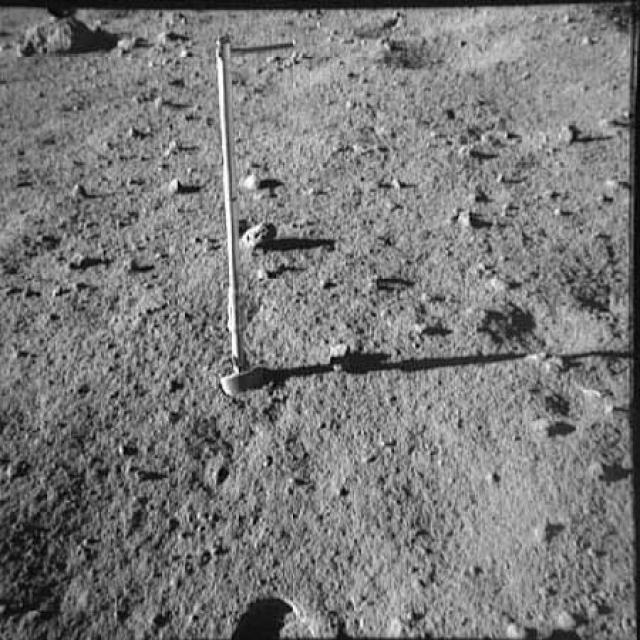crater: (368, 20, 538, 80), (474, 296, 592, 361), (554, 242, 630, 316)
rock: (19, 14, 100, 58), (239, 217, 290, 251), (520, 412, 572, 445), (334, 330, 364, 378), (582, 461, 628, 490), (477, 267, 520, 298), (527, 349, 566, 382), (241, 169, 277, 200), (541, 185, 571, 222), (62, 246, 98, 276), (116, 26, 148, 59), (151, 21, 187, 49), (116, 253, 151, 280), (455, 209, 487, 237), (526, 510, 554, 542), (557, 120, 585, 150), (598, 174, 633, 197), (154, 135, 182, 163), (406, 321, 437, 346), (482, 122, 514, 146), (68, 172, 93, 202), (456, 140, 489, 161), (253, 266, 287, 286), (122, 116, 148, 142), (366, 264, 390, 291), (166, 173, 195, 195), (318, 272, 342, 296), (464, 184, 488, 203), (154, 95, 175, 115), (392, 175, 409, 195)
